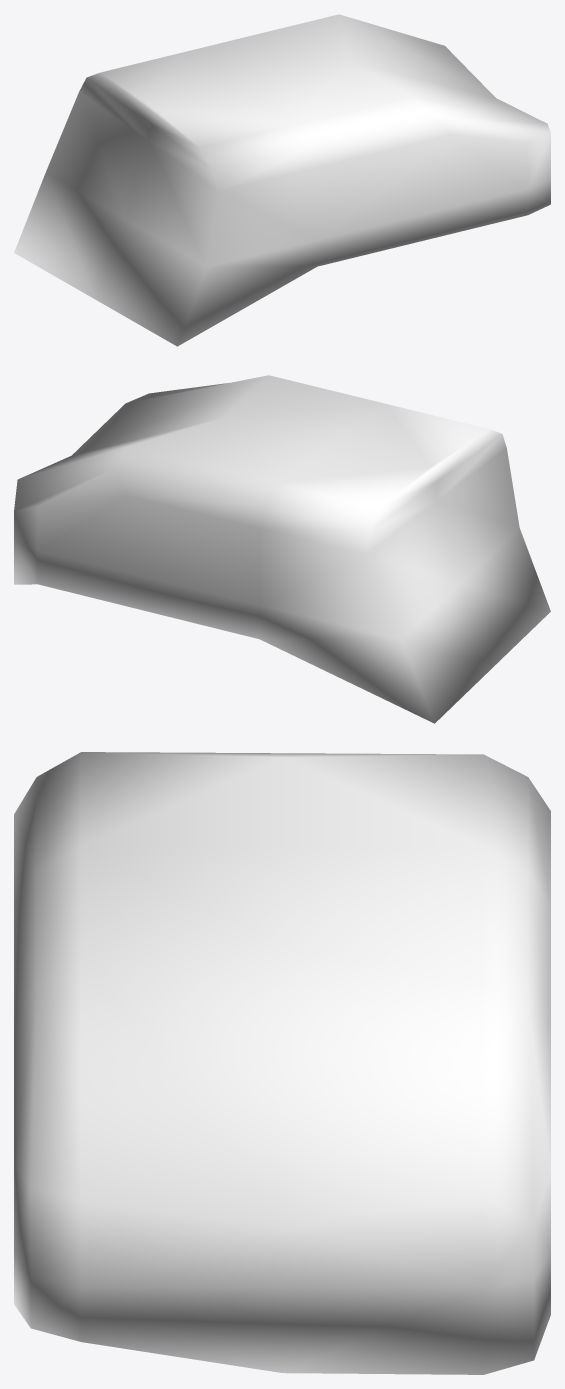
Rendered from WhiteBrickBreak2.obj.
The picture shows the model from 3 angles, top to bottom: view 1: azimuth 30°, elevation 25°; view 2: azimuth 150°, elevation 25°; view 3: azimuth 270°, elevation 25°; orthographic projection. The views are drawn at different scales.
Visible parts, largest first — view 1: OriginalBrick.007_Cube.006; view 2: OriginalBrick.007_Cube.006; view 3: OriginalBrick.007_Cube.006.
Part boxes in pixels (<box>): OriginalBrick.007_Cube.006: <box>14,14,550,346</box>; OriginalBrick.007_Cube.006: <box>14,375,550,723</box>; OriginalBrick.007_Cube.006: <box>14,752,550,1374</box>.
Size of the model in its own units: 0.7529 by 0.306 by 0.4316.
2 materials, 2 textured.
